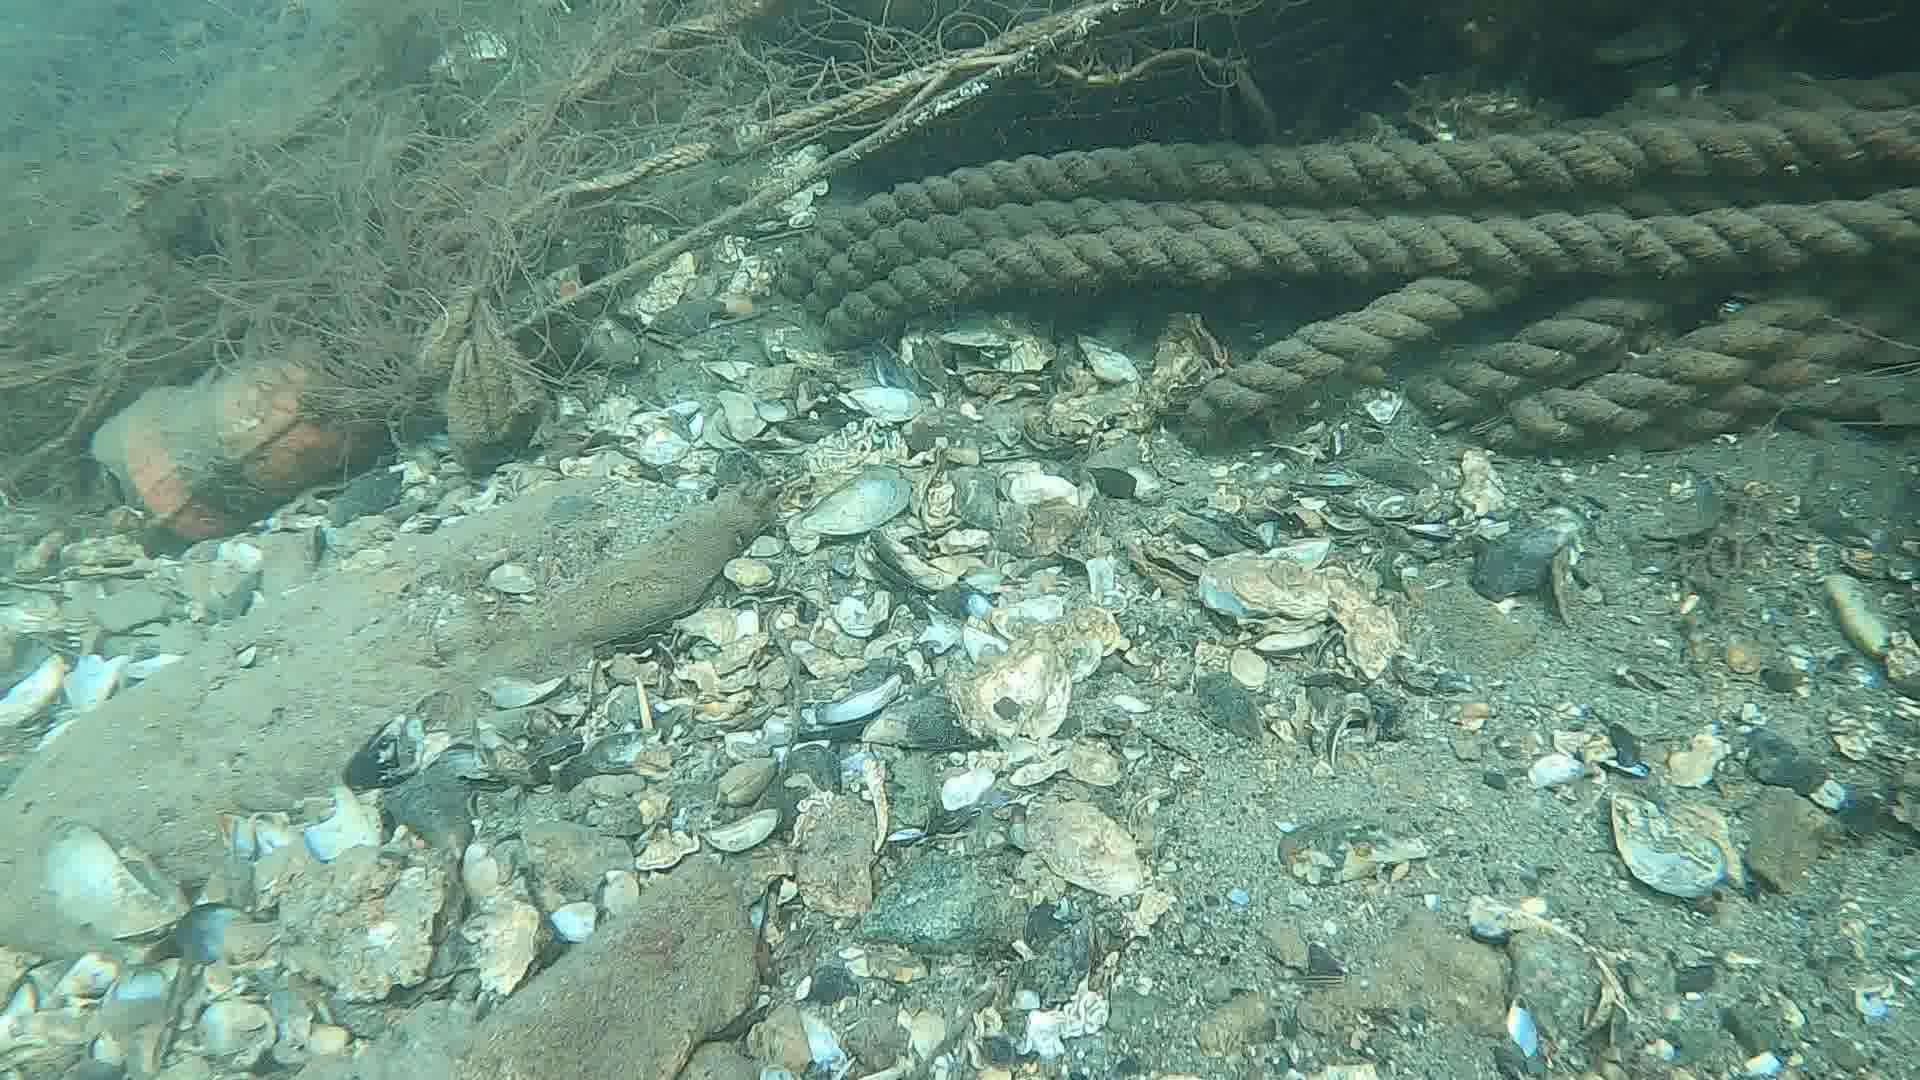bundle of ropes: (782, 65, 1920, 454)
